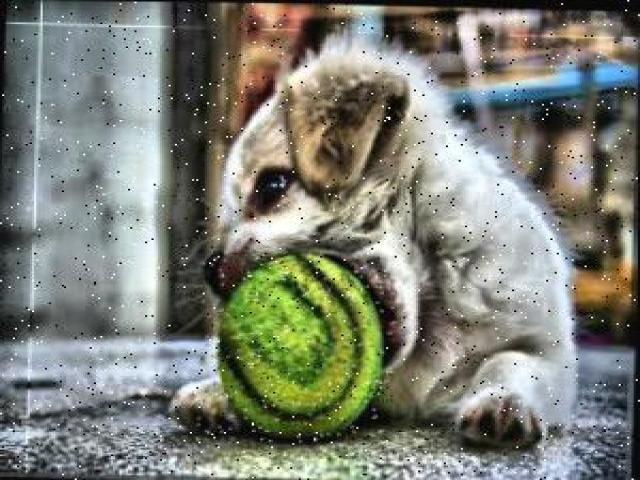tennis-ball: (215, 249, 386, 445)
